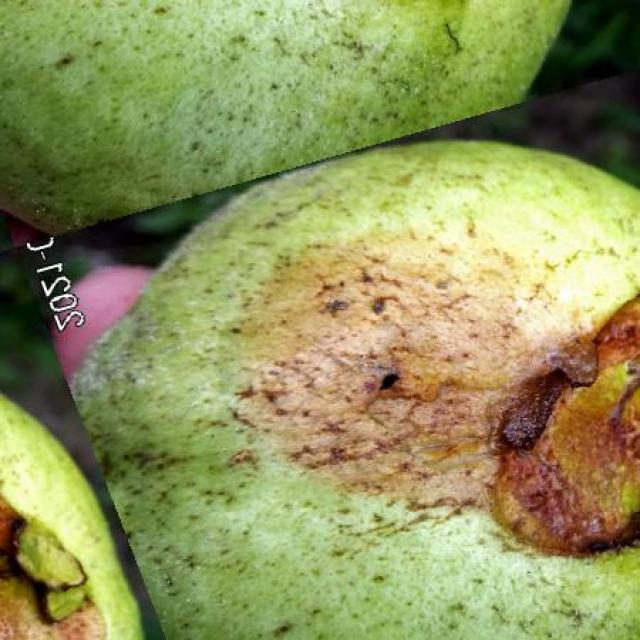Styler and Root: (76, 142, 640, 640)
